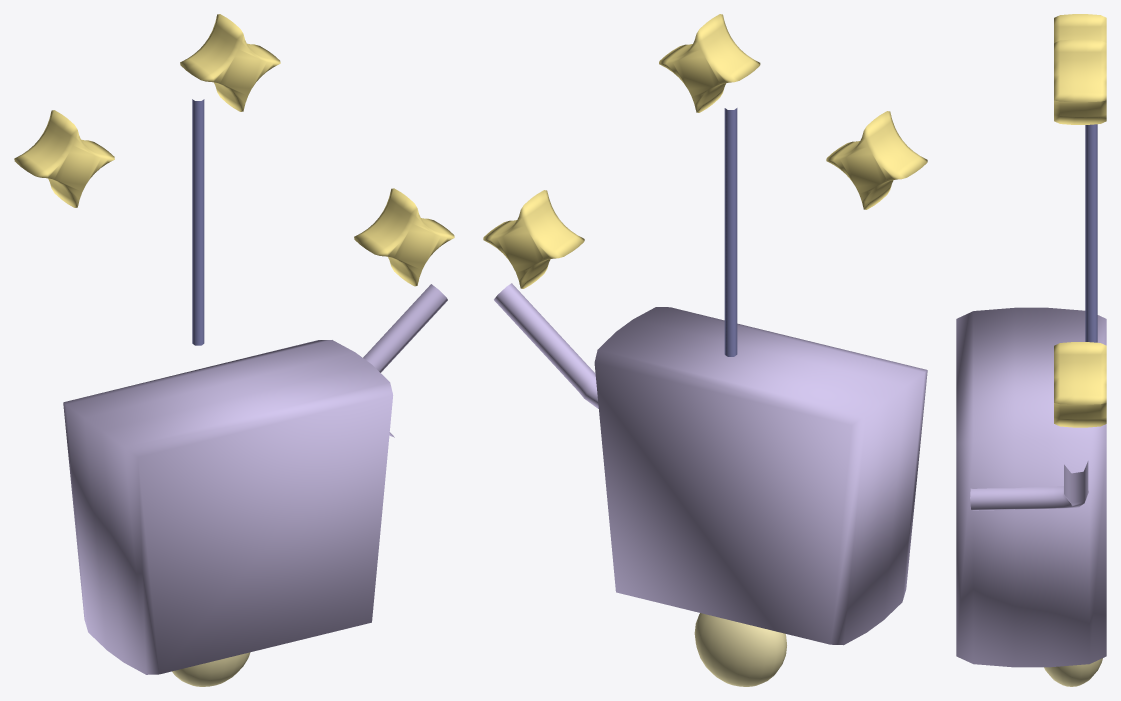
File: decor_3_star.glb
3 renders of one model, left to right at view 1: azimuth 30°, elevation 25°; view 2: azimuth 150°, elevation 25°; view 3: azimuth 270°, elevation 25°, orthographic.
Visible parts, largest first — view 1: decor_3_star; view 2: decor_3_star; view 3: decor_3_star.
Part boxes in pixels (x1,y1,x2,y2): decor_3_star: (14, 14, 454, 686); decor_3_star: (483, 14, 927, 686); decor_3_star: (956, 14, 1106, 686).
Size of the model in its own units: 7.93 by 11.77 by 2.45.
